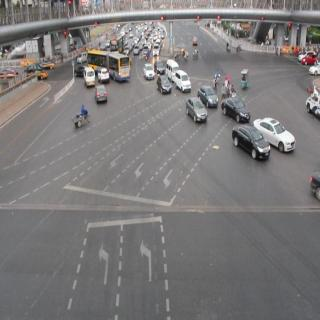BigCar: (85, 47, 131, 73)
Car: (256, 109, 298, 155), (233, 123, 275, 164), (181, 93, 211, 130), (219, 93, 248, 124), (196, 82, 222, 110), (154, 70, 178, 100), (92, 74, 108, 108), (175, 69, 194, 93), (96, 67, 111, 86)
